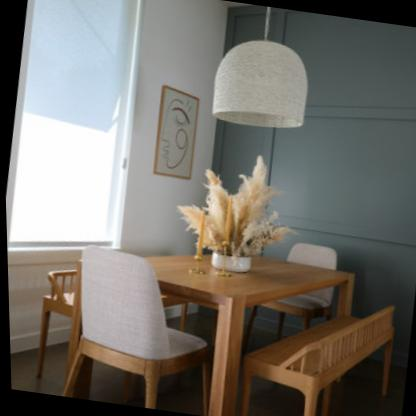Dining Table: (29, 223, 398, 416)
